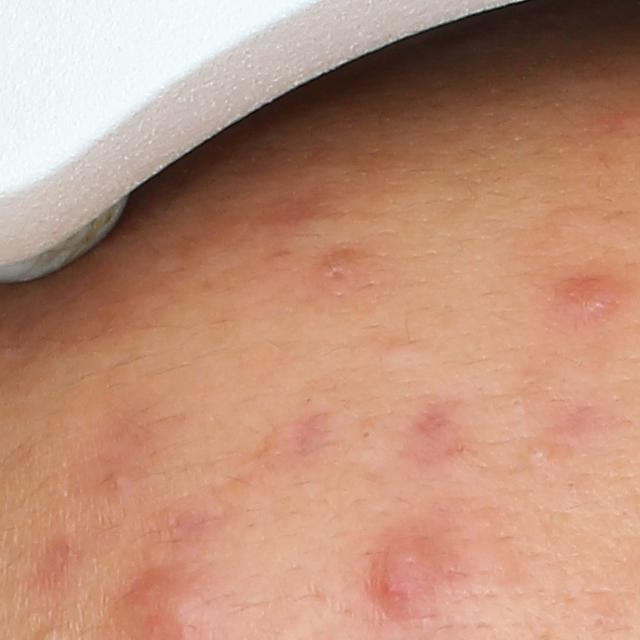comedo: (528, 444, 551, 465), (593, 612, 609, 631)
papule: (377, 536, 439, 609), (561, 276, 614, 318), (320, 252, 353, 287)
